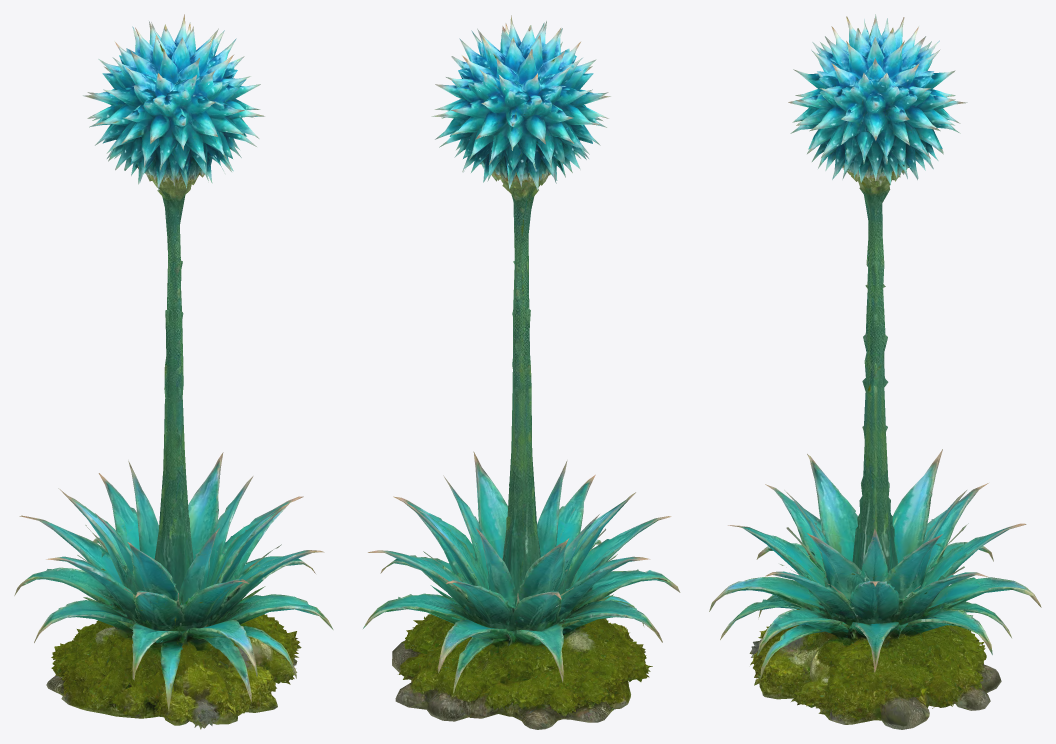
The model's file is alien-spiky-plant.glb.
The picture shows the model from 3 angles, left to right: view 1: azimuth 30°, elevation 25°; view 2: azimuth 150°, elevation 25°; view 3: azimuth 270°, elevation 25°; orthographic projection.
Size of the model in its own units: 0.8659 by 1.9 by 0.884.
Materials: 1 (1 with a texture image).
